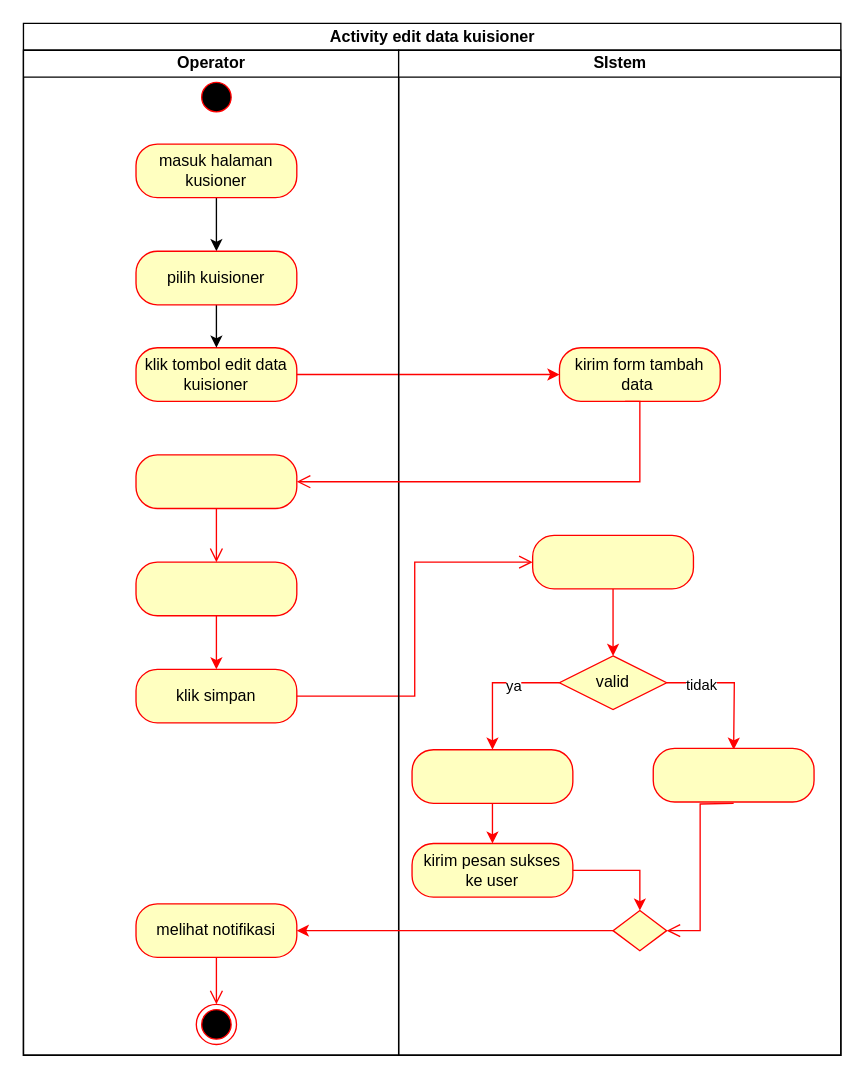
Image size: 864x1079. Some labels were removed from this diagram. Here are the shapes that lost their labels. From the top down, the centre of each, then its label:
At pixel 216 481: "form dibuka".
At pixel 612 561: "validasi data".
At pixel 216 588: "isi form".
At pixel 492 775: "simpan data".
At pixel 733 774: "kirim pesan eror ke user".
